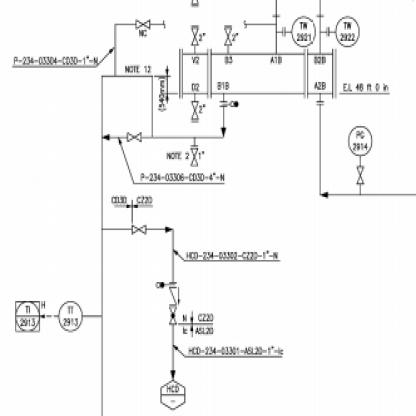LMI: (334, 14, 371, 49), (56, 294, 83, 336), (346, 121, 376, 158), (289, 13, 316, 47)
TAG: (10, 295, 40, 337)
